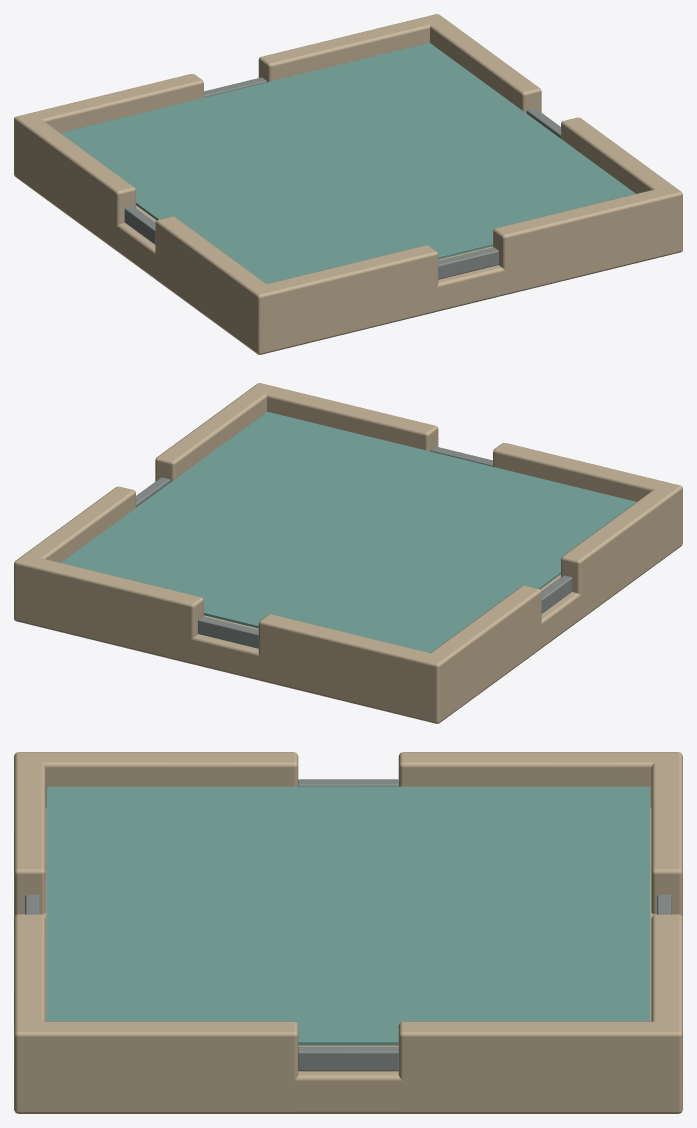
The model's file is coastal-saltworks-and-trade-port-coastal-saltworks-and-081bd939__31363.glb.
The picture shows the model from 3 angles, top to bottom: view 1: azimuth 30°, elevation 25°; view 2: azimuth 150°, elevation 25°; view 3: azimuth 270°, elevation 25°; orthographic projection. The views are drawn at different scales.
Parts seen in each view (by area): view 1: coastal-saltworks-and-trade-port-evaporation-basin; view 2: coastal-saltworks-and-trade-port-evaporation-basin; view 3: coastal-saltworks-and-trade-port-evaporation-basin.
Boxes of the visible parts, <box> form: coastal-saltworks-and-trade-port-evaporation-basin: <box>14,14,682,354</box>; coastal-saltworks-and-trade-port-evaporation-basin: <box>14,383,682,723</box>; coastal-saltworks-and-trade-port-evaporation-basin: <box>14,752,682,1113</box>.
Size of the model in its own units: 3.6 by 0.49 by 3.6.
